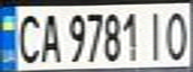1: (121, 8, 142, 62)
7: (81, 9, 106, 62)
8: (103, 8, 124, 62)
9: (63, 9, 87, 63)
A: (36, 9, 63, 64)
C: (9, 9, 45, 64)
I: (142, 7, 169, 61)
O: (160, 7, 193, 61)
